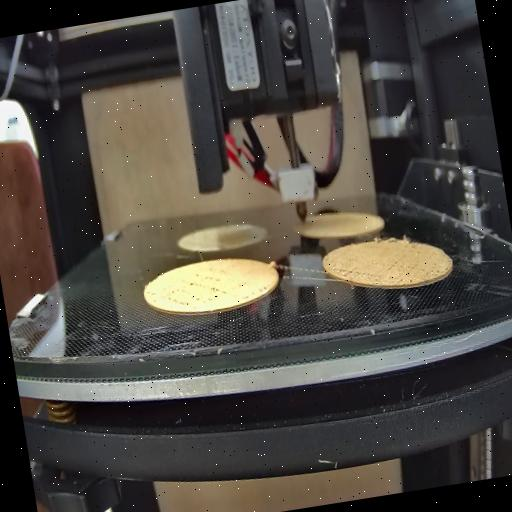under_extrusion: (161, 265, 229, 311), (382, 243, 440, 288), (338, 262, 371, 286), (242, 280, 268, 298)
